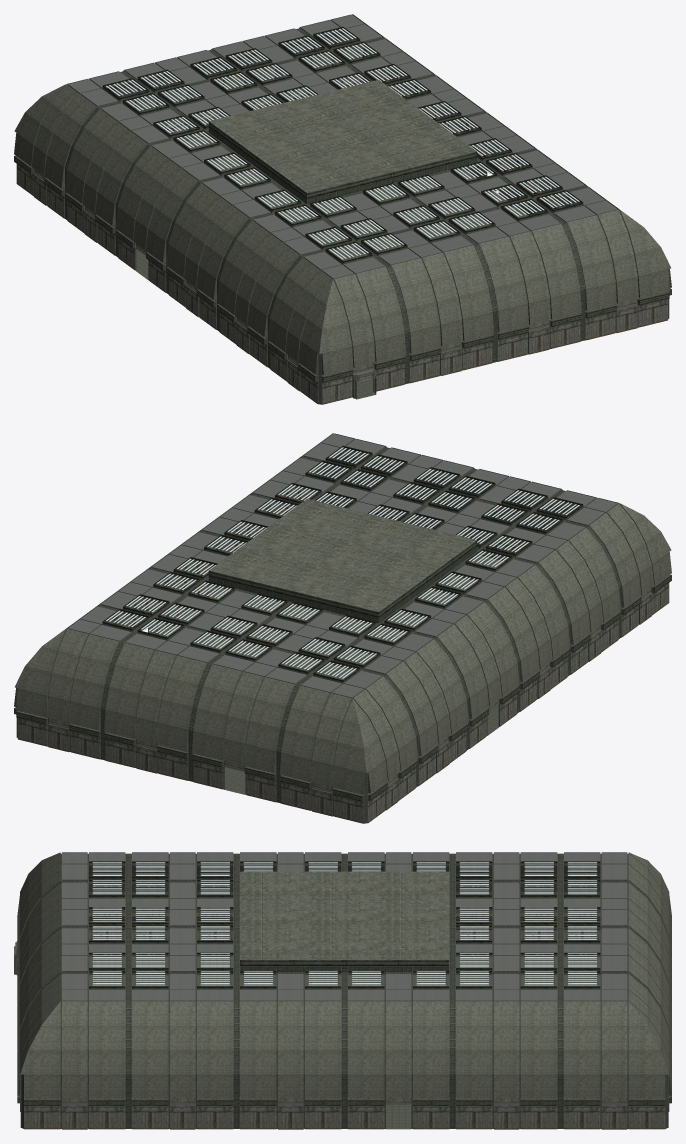
File: poi_all_impl_bunker_crimelord_retreat_s01_r45_grandentrance_mesh_r45.fbx
3 views of the same model, one above another, from view 1: azimuth 30°, elevation 25°; view 2: azimuth 150°, elevation 25°; view 3: azimuth 270°, elevation 25° (orthographic). The views are drawn at different scales.
Parts seen in each view (by area): view 1: mesh_node; view 2: mesh_node; view 3: mesh_node.
Boxes of the visible parts, bbox=[...] form: mesh_node: bbox=[14, 14, 671, 404]; mesh_node: bbox=[14, 433, 671, 823]; mesh_node: bbox=[14, 852, 671, 1129].
Size of the model in its own units: 65 by 20 by 97.5.
